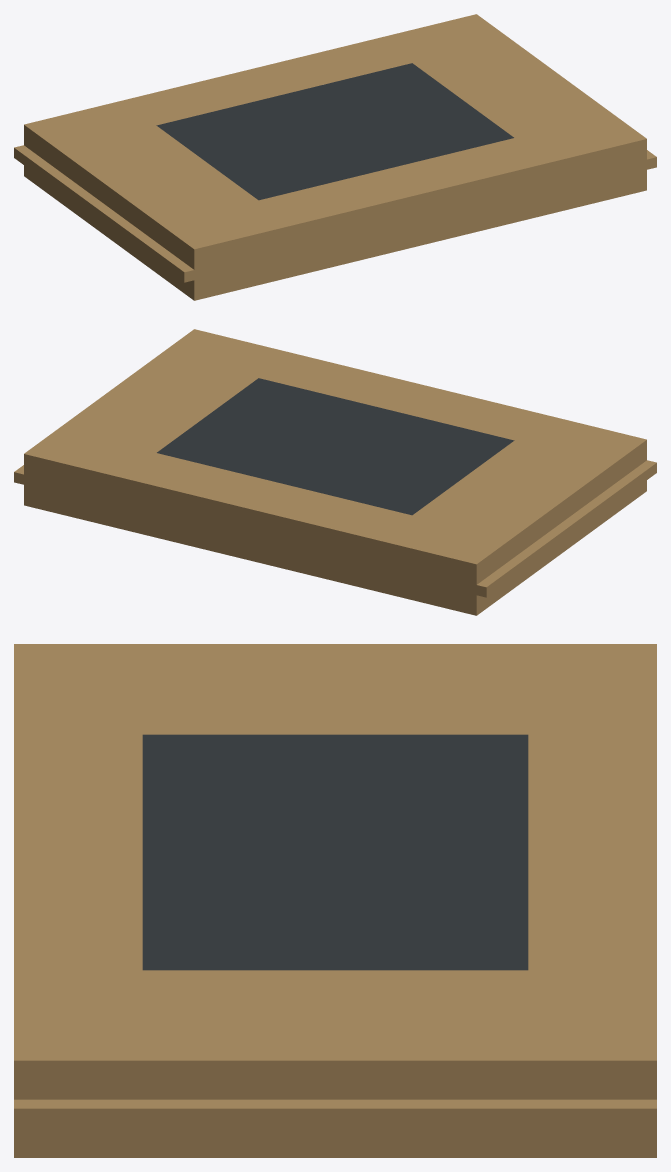
The model's file is mre_bag.glb.
3 renders of one model, top to bottom at view 1: azimuth 30°, elevation 25°; view 2: azimuth 150°, elevation 25°; view 3: azimuth 270°, elevation 25°, orthographic. The views are drawn at different scales.
Parts seen in each view (by area): view 1: mre_bag:compound; view 2: mre_bag:compound; view 3: mre_bag:compound.
Boxes of the visible parts, bbox=[...] form: mre_bag:compound: bbox=[14, 14, 656, 300]; mre_bag:compound: bbox=[14, 329, 656, 615]; mre_bag:compound: bbox=[14, 644, 656, 1157].
Bounding box in the file's own units: 0.192 × 0.02 × 0.12.
